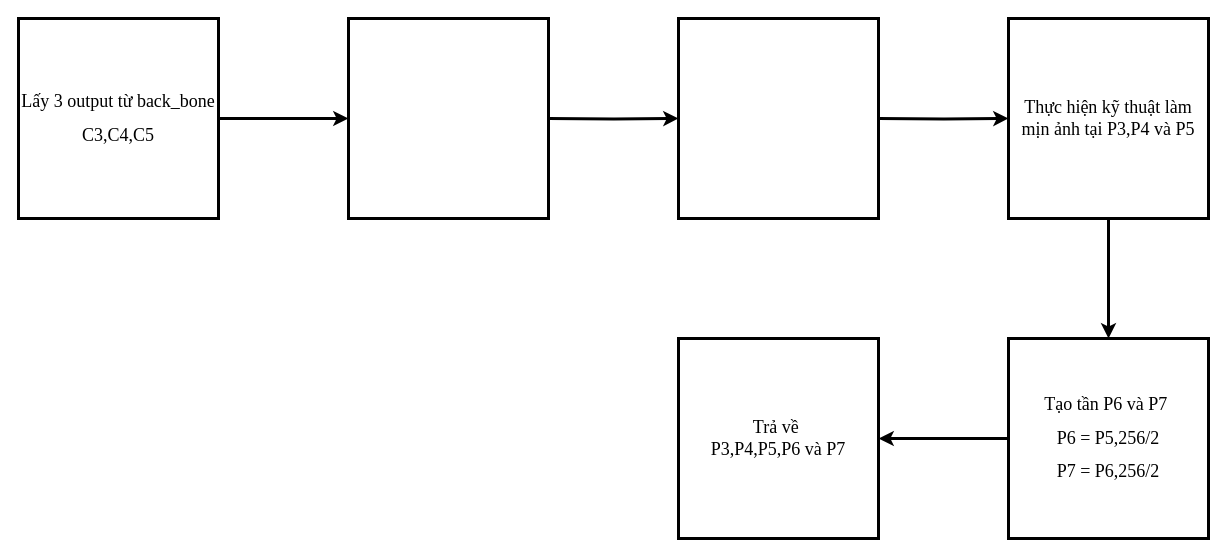
Some shapes in this 1227 by 557 pixel diagram are drawn without their labels. Here are the shapes that lost their labels. From the top down, the box of each, then its label:
(346, 16, 550, 220): Chuyển 3 output về cùng một kích thước kênh (256)
(676, 16, 880, 220): Thực hiện phép cộng kênh tại C3 và C4 P3 = P3 + C4_x2_size P4 = P4 + C5_x2_size
